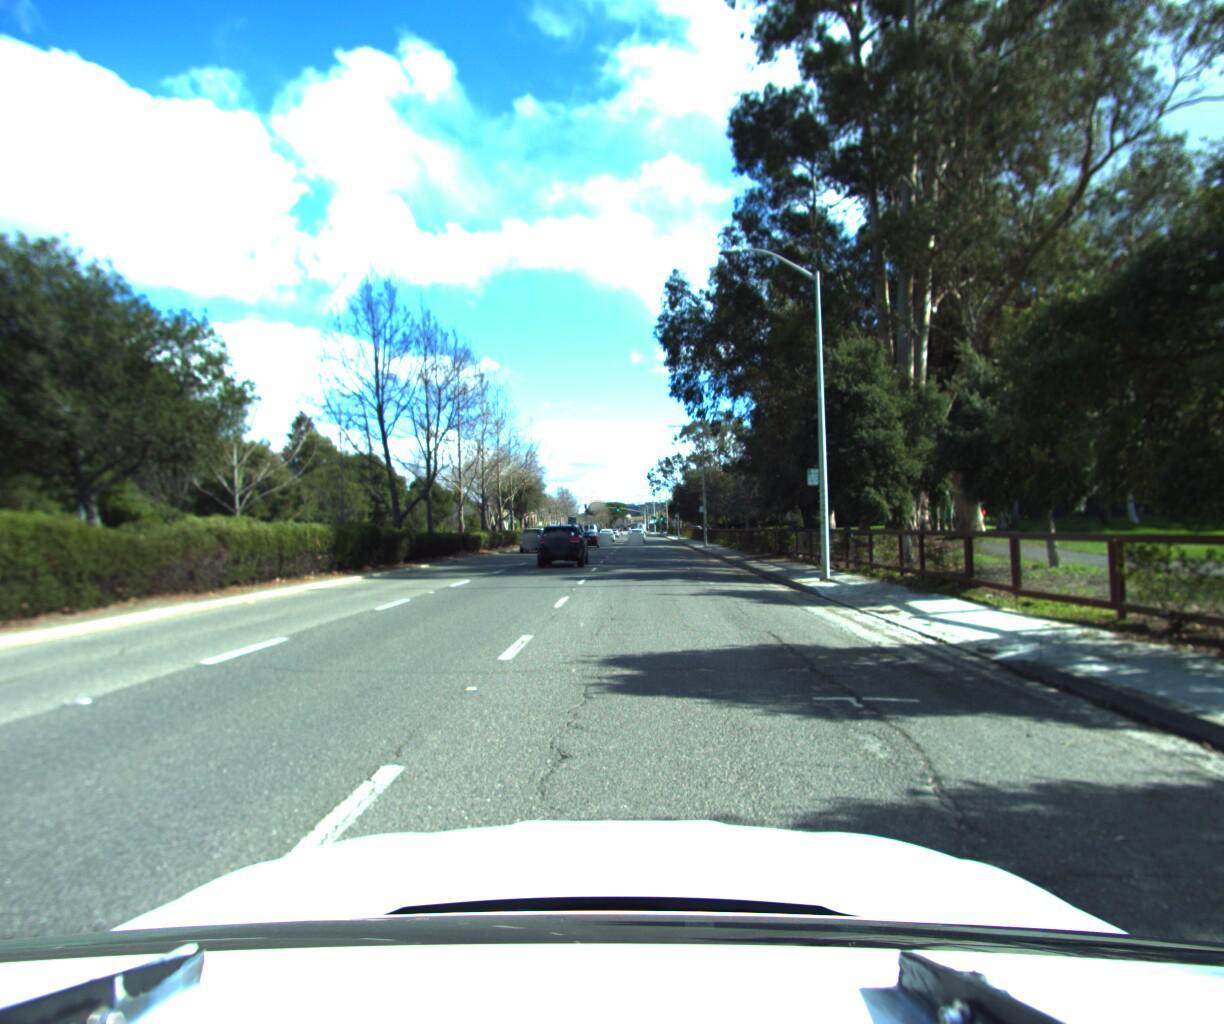car: (531, 520, 588, 566), (515, 524, 552, 553), (578, 526, 604, 550), (630, 526, 648, 540)
